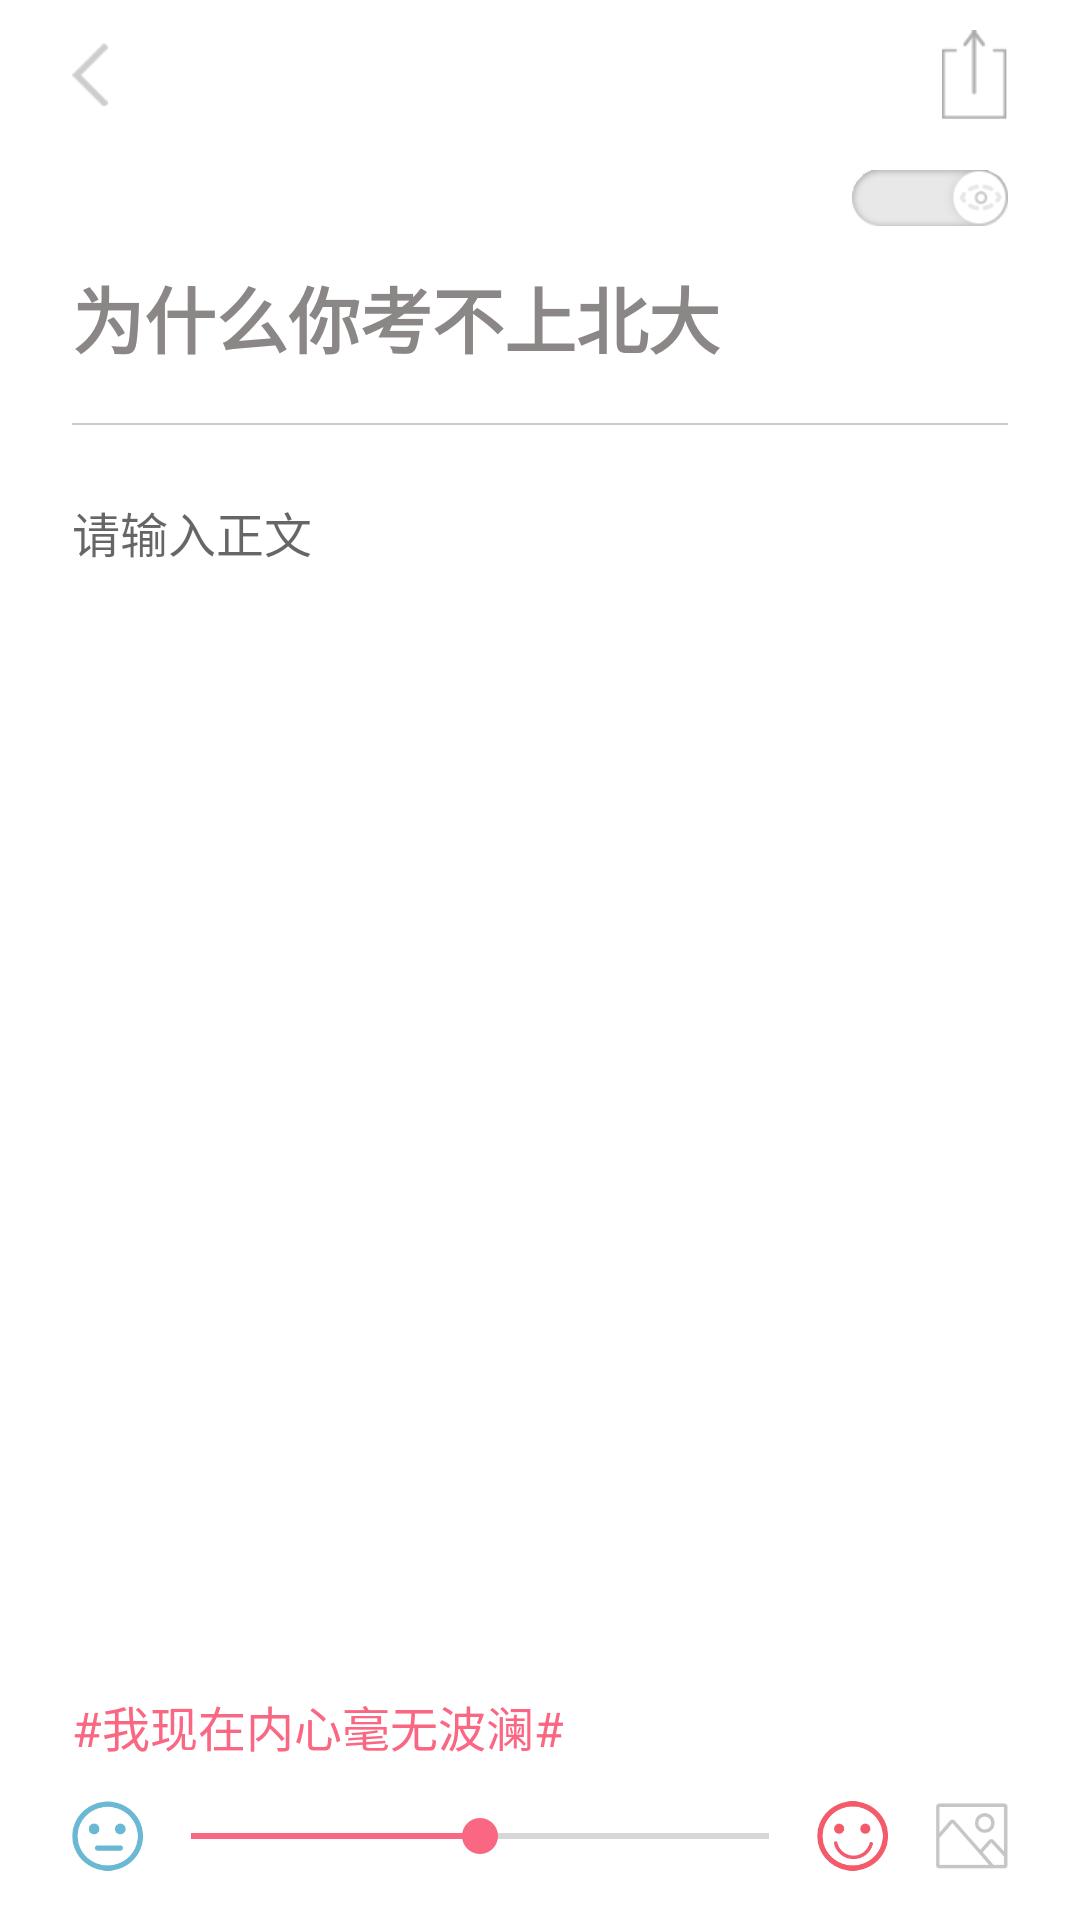

Screen size 1080px x 1920px. Icon name, then its center in pixels as [x,y]:
bad mood: [107,1836]
good mood: [852,1836]
insert: [972,1835]
return release: [90,74]
